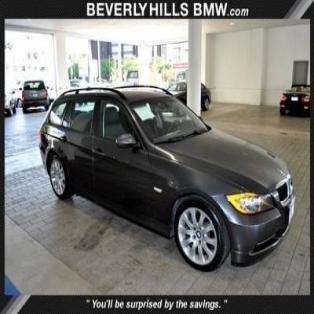Auto: (40, 84, 298, 273)
